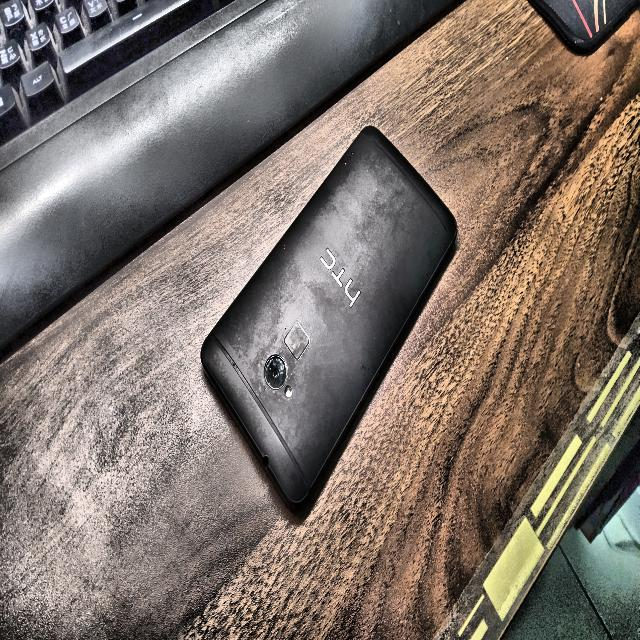PHONE: (201, 127, 456, 510)
